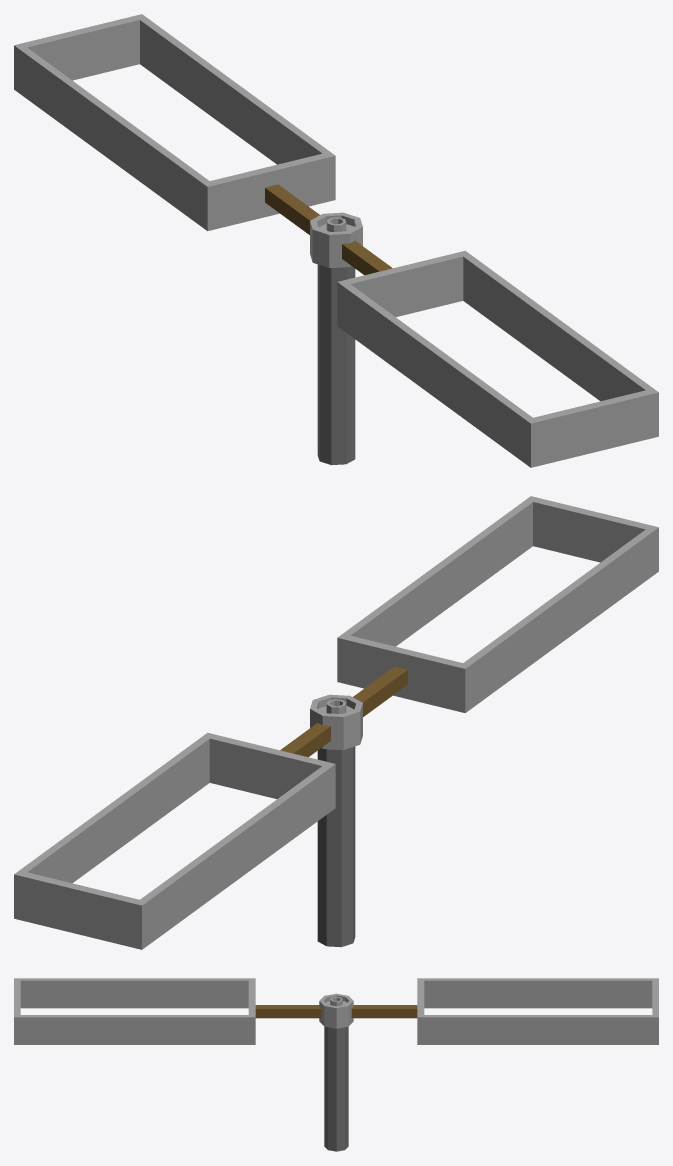
Rendered from rotatingPlatform.fbx.
3 renders of one model, top to bottom at view 1: azimuth 30°, elevation 25°; view 2: azimuth 150°, elevation 25°; view 3: azimuth 270°, elevation 25°, orthographic. The views are drawn at different scales.
Visible parts, largest first — view 1: bladePlatform1, bladePlatform2, supportBeam, fanCenter, woodSupport2, woodSupport1; view 2: bladePlatform2, bladePlatform1, supportBeam, fanCenter, woodSupport1, woodSupport2; view 3: bladePlatform1, bladePlatform2, supportBeam, fanCenter, woodSupport1, woodSupport2.
Part boxes in pixels (<box>): bladePlatform1: <box>337,250,658,467</box>; bladePlatform2: <box>14,14,335,231</box>; supportBeam: <box>317,264,355,465</box>; fanCenter: <box>310,212,362,267</box>; woodSupport2: <box>265,184,319,234</box>; woodSupport1: <box>342,241,392,275</box>; bladePlatform2: <box>14,732,335,949</box>; bladePlatform1: <box>337,496,658,713</box>; supportBeam: <box>317,746,355,947</box>; fanCenter: <box>310,694,362,749</box>; woodSupport1: <box>353,666,407,716</box>; woodSupport2: <box>280,723,330,757</box>; bladePlatform1: <box>14,978,255,1044</box>; bladePlatform2: <box>417,978,658,1044</box>; supportBeam: <box>324,1026,348,1151</box>; fanCenter: <box>319,993,353,1028</box>; woodSupport1: <box>255,1005,321,1018</box>; woodSupport2: <box>351,1005,417,1018</box>.
Bounding box in the file's own units: 0.5638 × 1 × 3.94.
